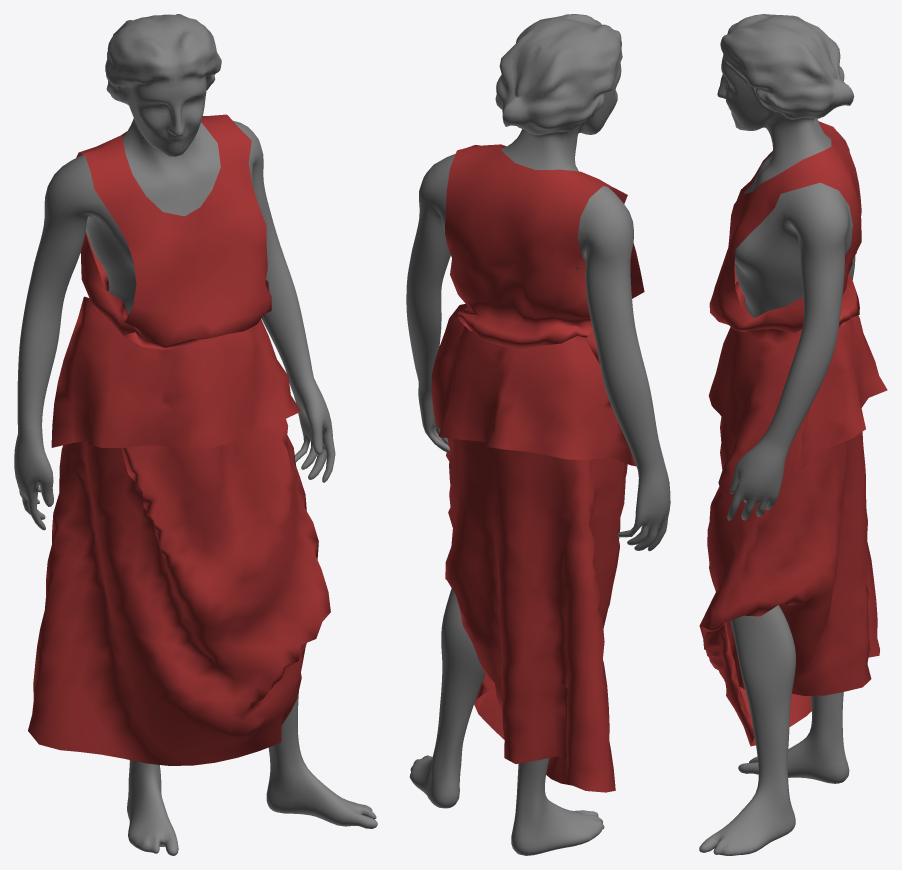
File: SM_sculpture_Midathrias.fbx
The picture shows the model from 3 angles, left to right: view 1: azimuth 30°, elevation 25°; view 2: azimuth 150°, elevation 25°; view 3: azimuth 270°, elevation 25°; orthographic projection. The views are drawn at different scales.
Visible parts, largest first — view 1: asda; view 2: asda; view 3: asda.
Part boxes in pixels (x1,y1,x2,y2): asda: (14,14,377,855); asda: (406,14,670,855); asda: (699,14,887,855).
Size of the model in its own units: 27.18 by 69.82 by 15.76.
